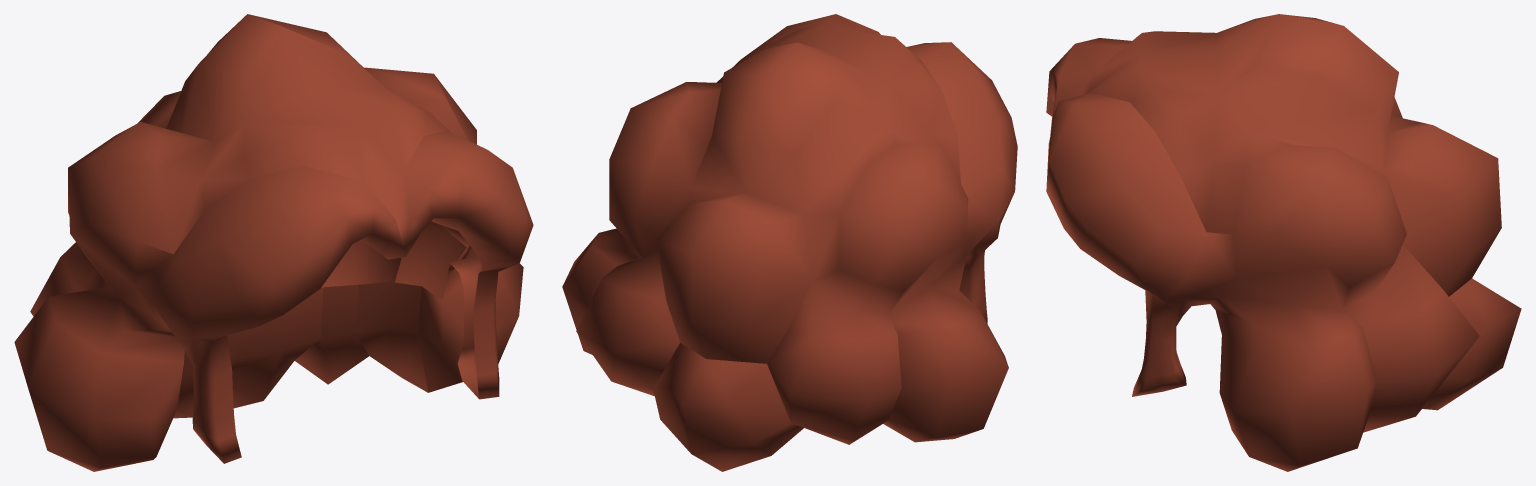
The model's file is Hair_Brown_17.fbx.
The picture shows the model from 3 angles, left to right: view 1: azimuth 30°, elevation 25°; view 2: azimuth 150°, elevation 25°; view 3: azimuth 270°, elevation 25°; orthographic projection. The views are drawn at different scales.
Parts seen in each view (by area): view 1: Hair_Brown_17; view 2: Hair_Brown_17; view 3: Hair_Brown_17.
Boxes of the visible parts, x1,y1,x2,y2 form: Hair_Brown_17: (14, 14, 533, 471); Hair_Brown_17: (562, 14, 1017, 471); Hair_Brown_17: (1046, 14, 1521, 471).
Size of the model in its own units: 85.16 by 70.13 by 76.23.
